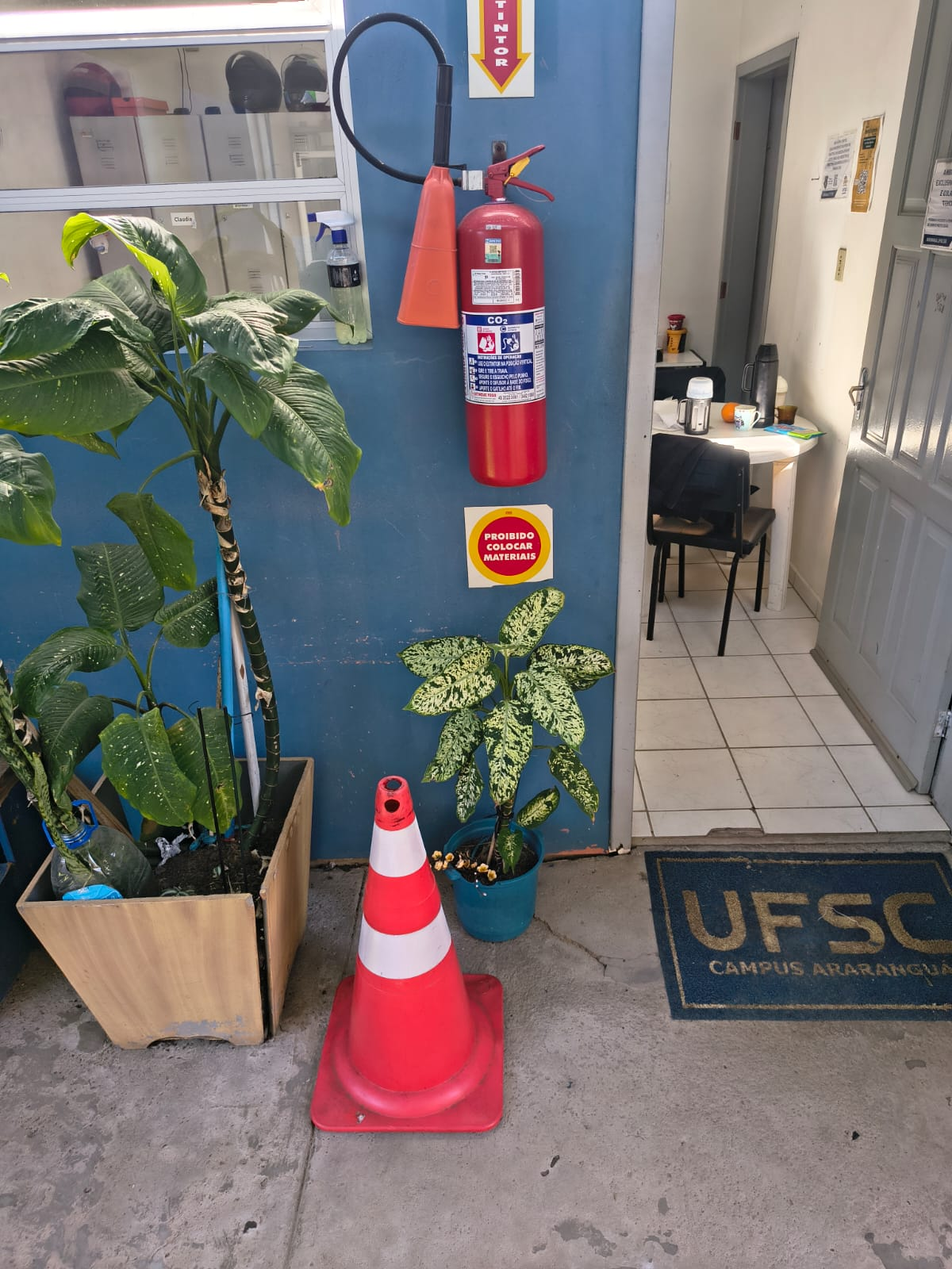cone: (301, 783, 501, 1139)
